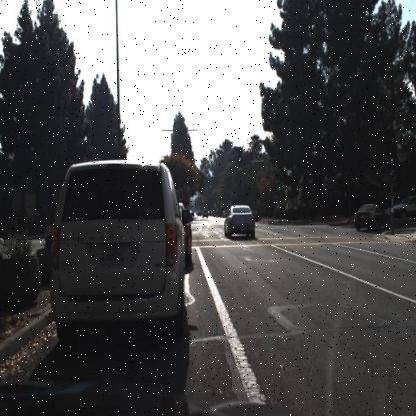car: (47, 157, 189, 346), (223, 202, 257, 244), (350, 197, 382, 239)
trafficLight-Green: (235, 147, 244, 168), (389, 143, 396, 162), (276, 176, 283, 191)
